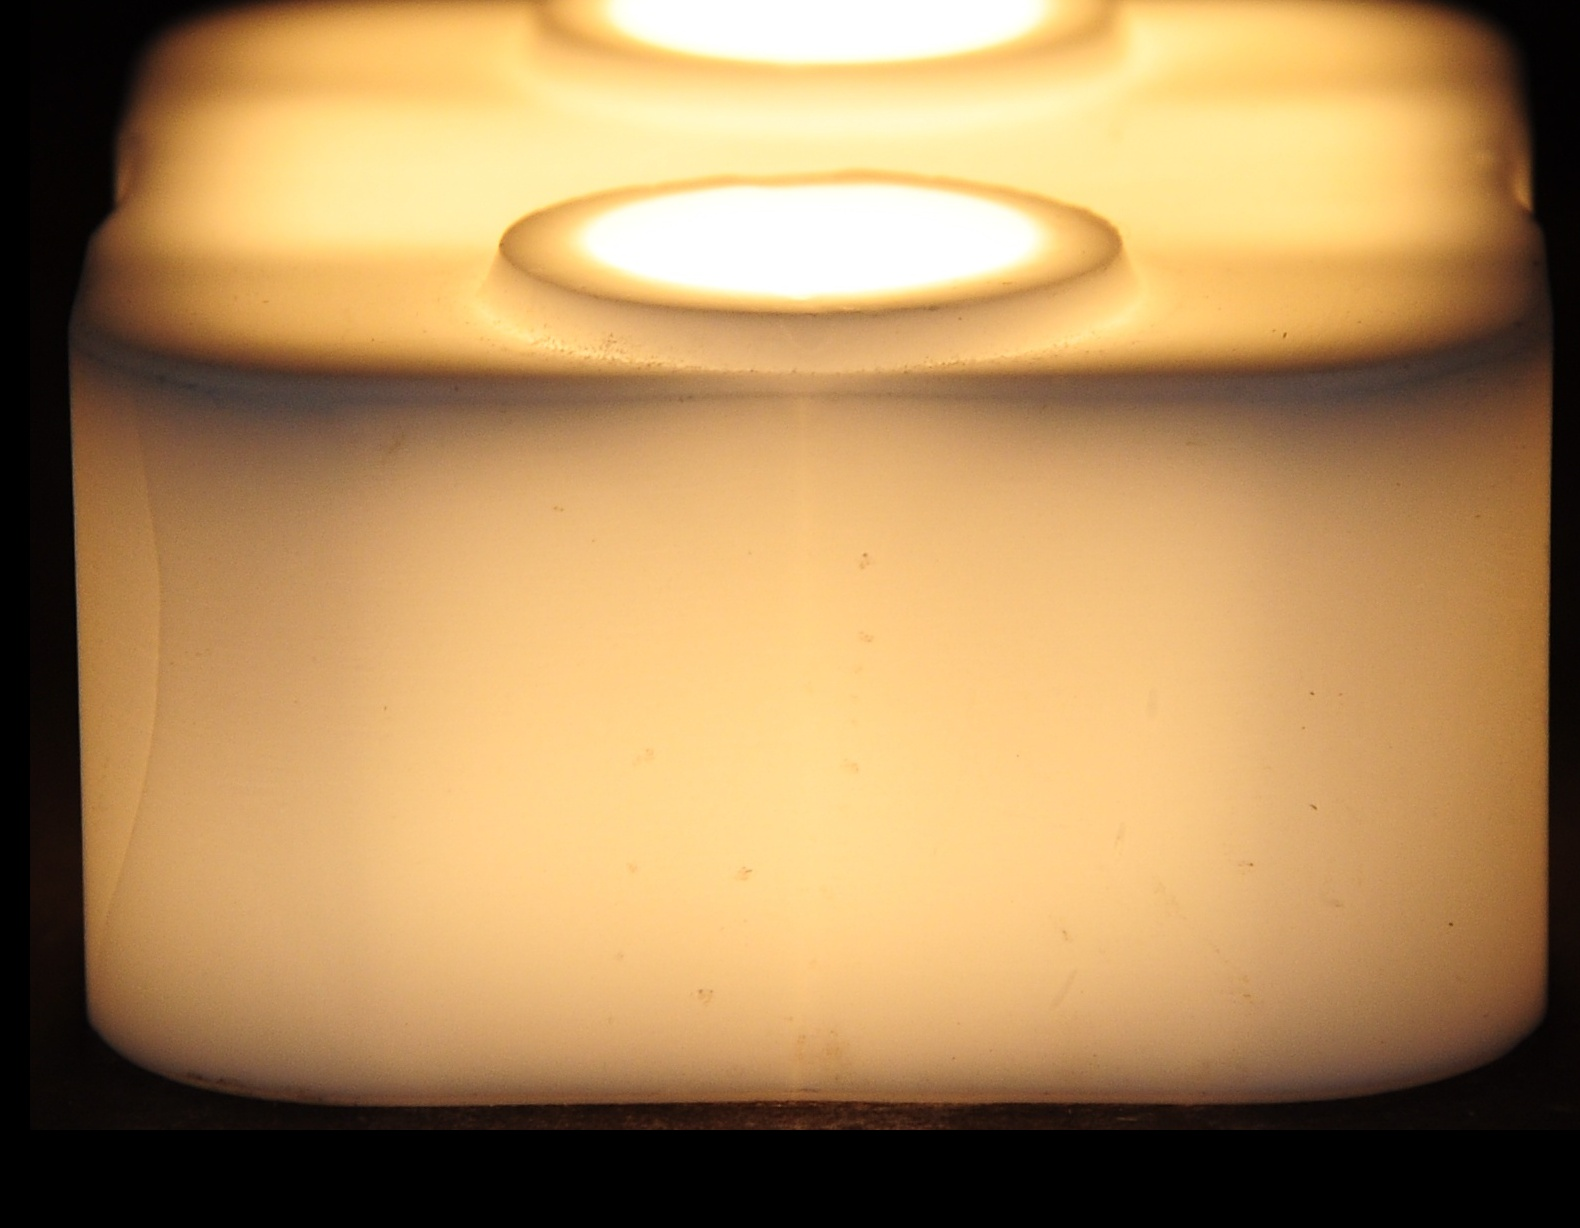flaw: (76, 355, 183, 1047)
